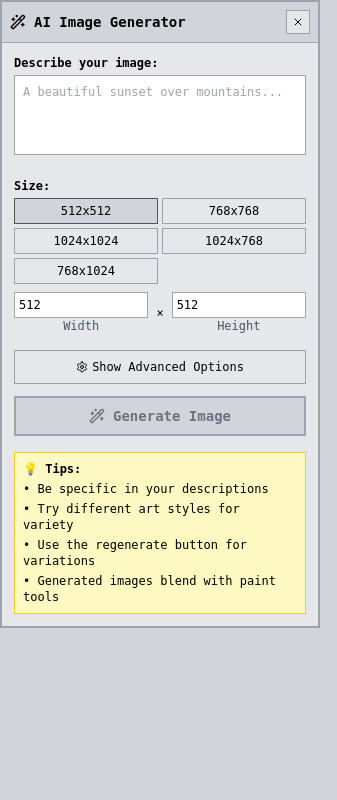
AI Image Generation Testing › UI Components › should show advanced options when toggled
The image size is (337, 800).
Click the button "Show Advanced Options".
click(160, 367)  # box top-left (14, 350), bottom-right (306, 384)
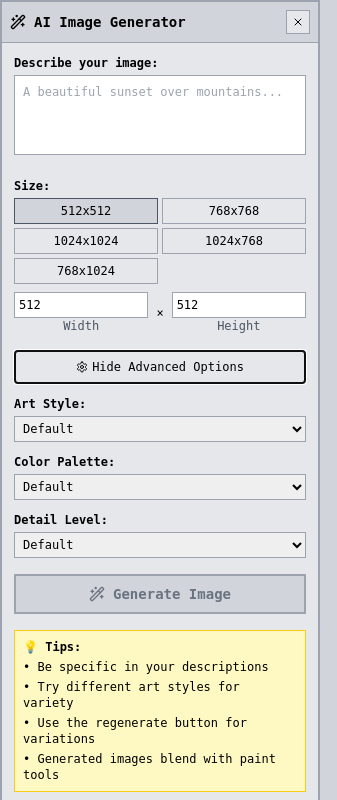
Result: the text "Art Style:" is shown at top-left (14, 397), bottom-right (86, 411)
Result: the text "Color Palette:" is shown at top-left (14, 455), bottom-right (115, 469)
Result: the text "Detail Level:" is shown at top-left (14, 513), bottom-right (108, 527)
